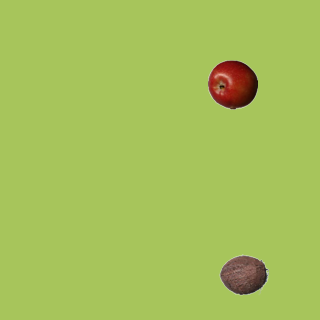Apple Braeburn: (207, 59, 257, 109)
Cocos: (218, 249, 268, 299)
